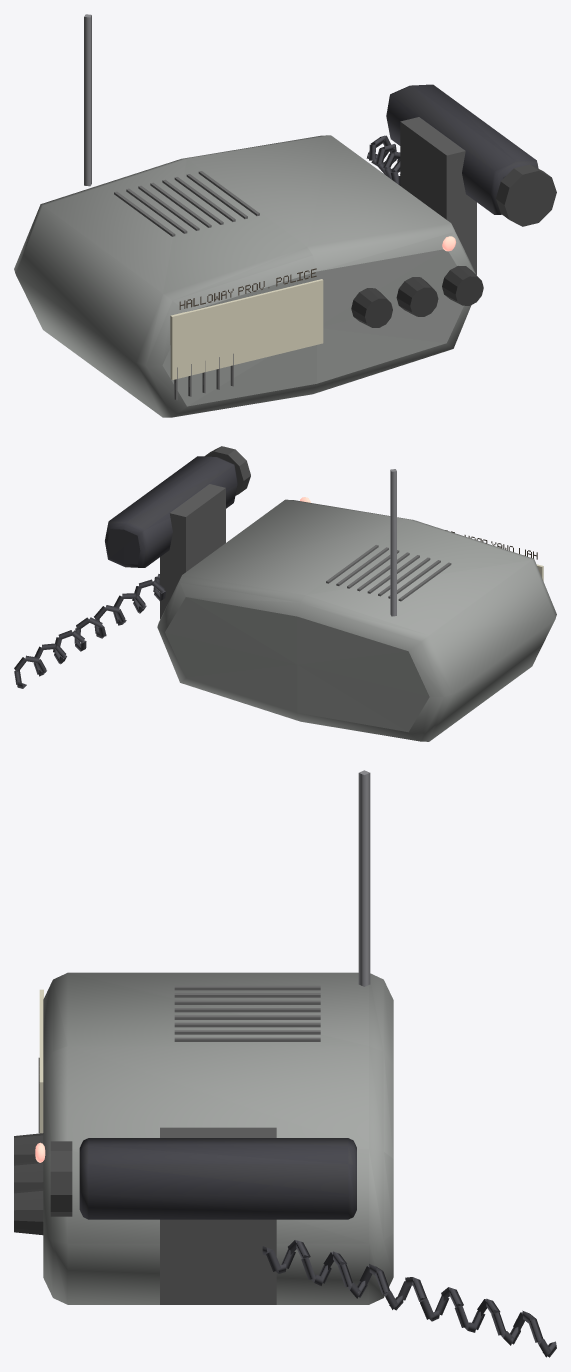
The model's file is cabin_radio_a.glb.
The picture shows the model from 3 angles, top to bottom: view 1: azimuth 30°, elevation 25°; view 2: azimuth 150°, elevation 25°; view 3: azimuth 270°, elevation 25°; orthographic projection. The views are drawn at different scales.
Parts seen in each view (by area): view 1: body; view 2: body; view 3: body.
Part boxes in pixels (bbox=[...]): body: bbox=[14, 14, 556, 417]; body: bbox=[14, 446, 556, 741]; body: bbox=[14, 770, 556, 1357].
Size of the model in its own units: 0.4401 by 0.3 by 0.3719.
